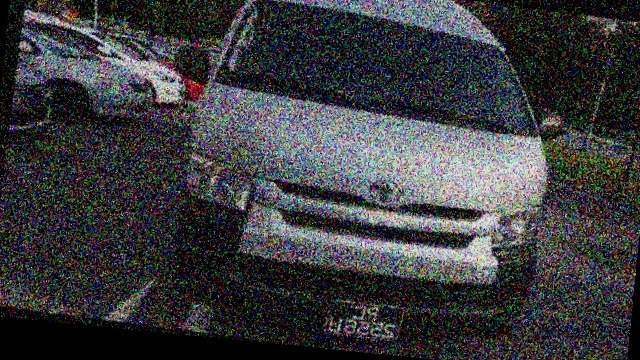van: (166, 0, 570, 356)
